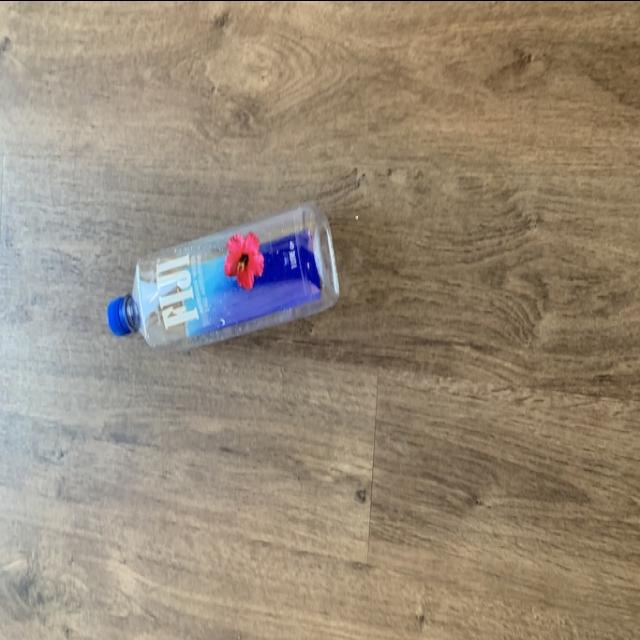PET: (105, 198, 344, 348)
